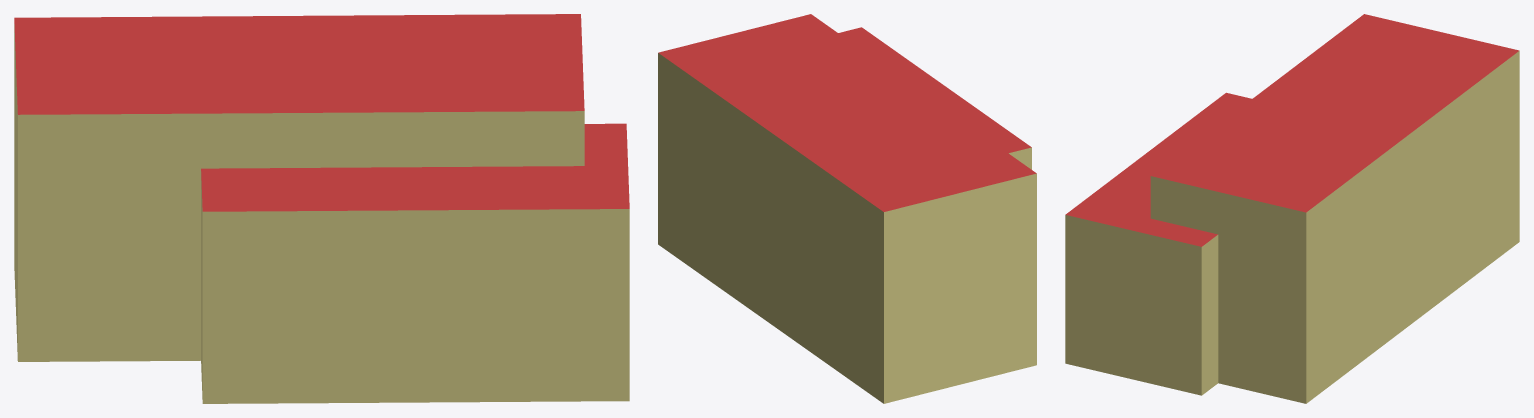
3 views of the same model, side by side, from view 1: azimuth 30°, elevation 25°; view 2: azimuth 150°, elevation 25°; view 3: azimuth 270°, elevation 25° (orthographic). The views are drawn at different scales.
Bounding box in the file's own units: 21.06 × 20.36 × 9.46.
